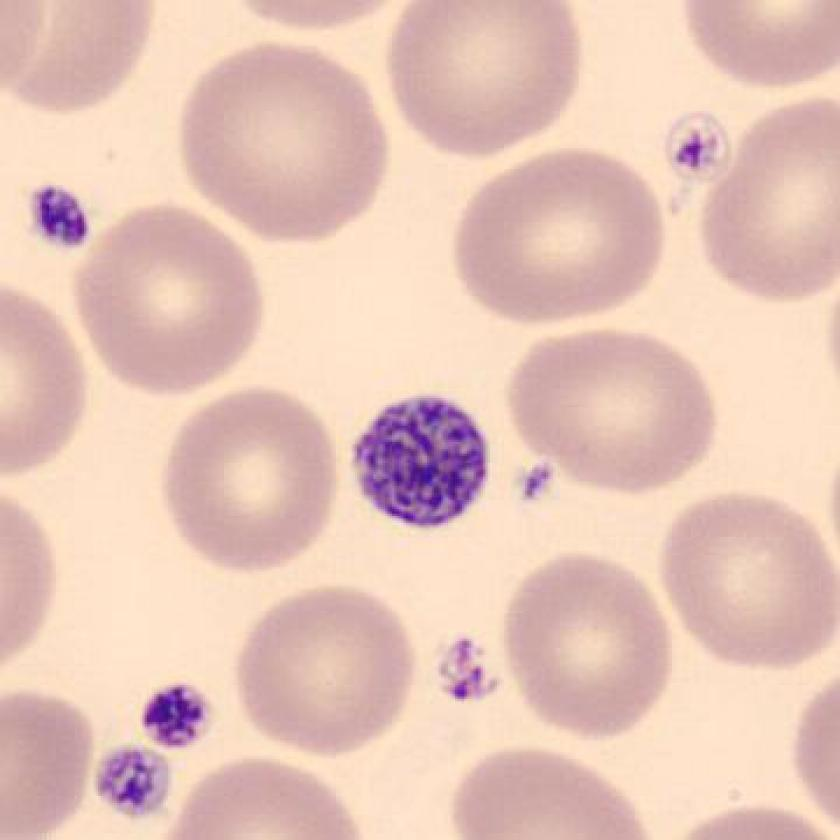platelets: (346, 383, 505, 540), (421, 623, 517, 723), (650, 105, 748, 202), (88, 742, 186, 830), (132, 677, 223, 762), (17, 177, 104, 262), (498, 450, 577, 524)
